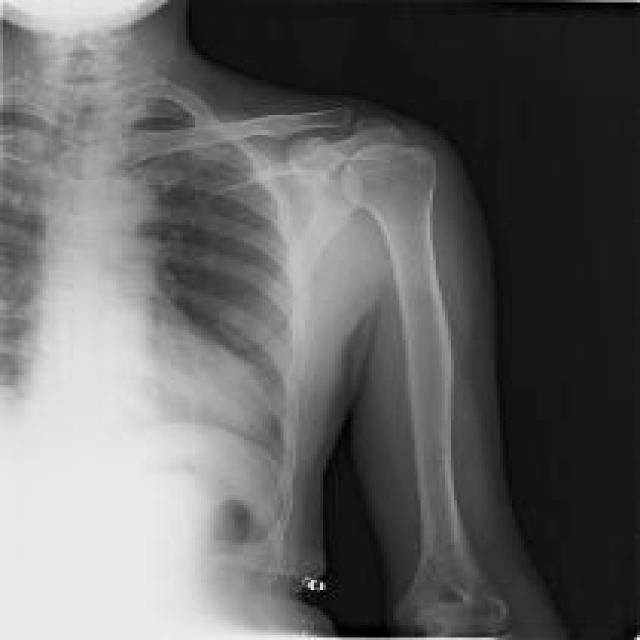normal: (341, 143, 502, 627)
